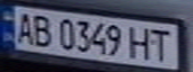0: (54, 16, 75, 52)
3: (72, 18, 93, 53)
4: (90, 20, 109, 55)
9: (103, 21, 127, 57)
A: (9, 9, 39, 45)
B: (30, 11, 54, 47)
H: (127, 25, 154, 61)
T: (148, 27, 175, 62)
